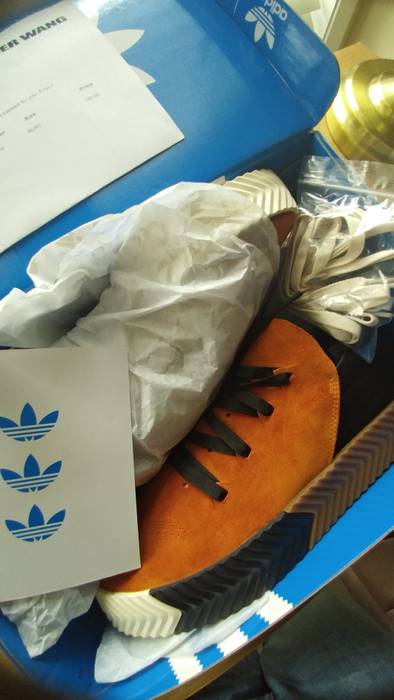adidas AW Skate Sand: (74, 285, 394, 653)
